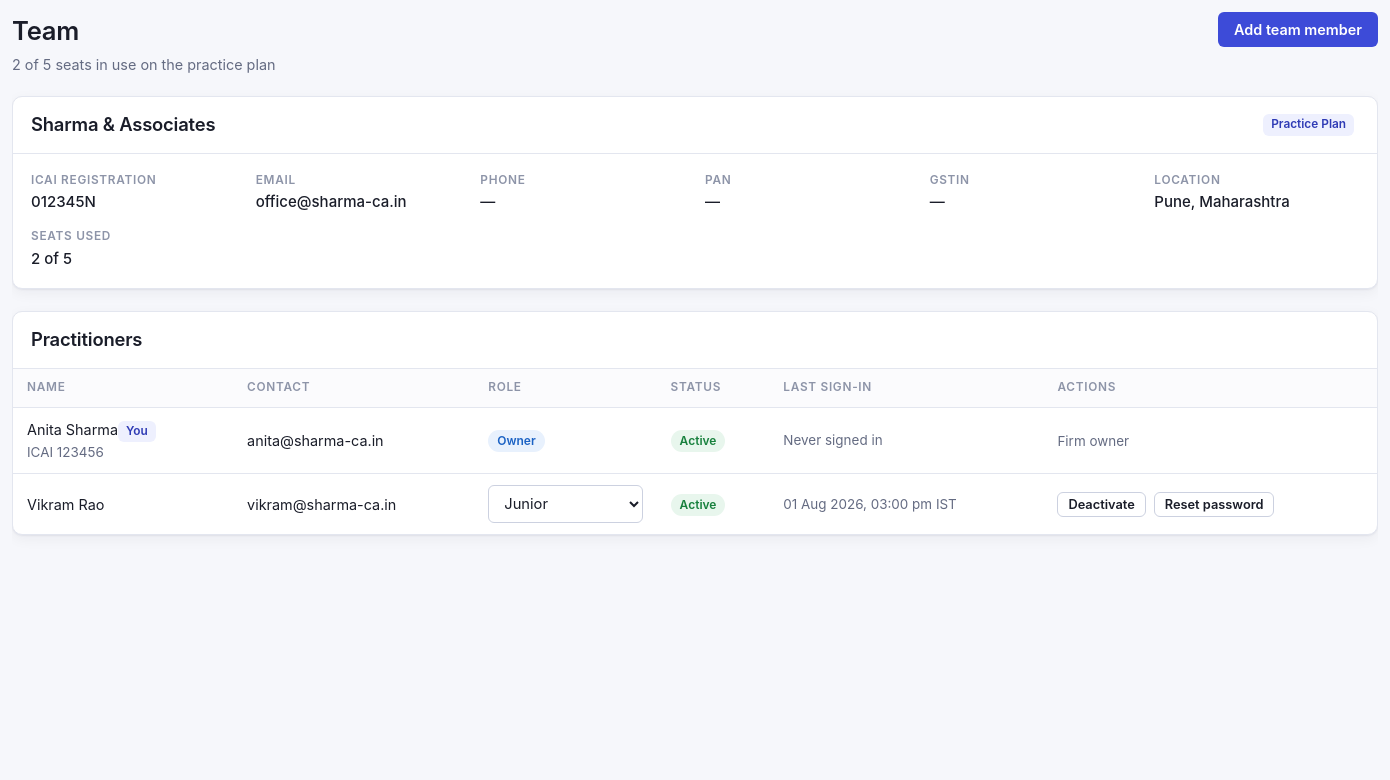
Changing a member › deactivates someone
Step 1. Click the button "Deactivate" → (1102, 504), box top-left (1057, 492), bottom-right (1146, 517)
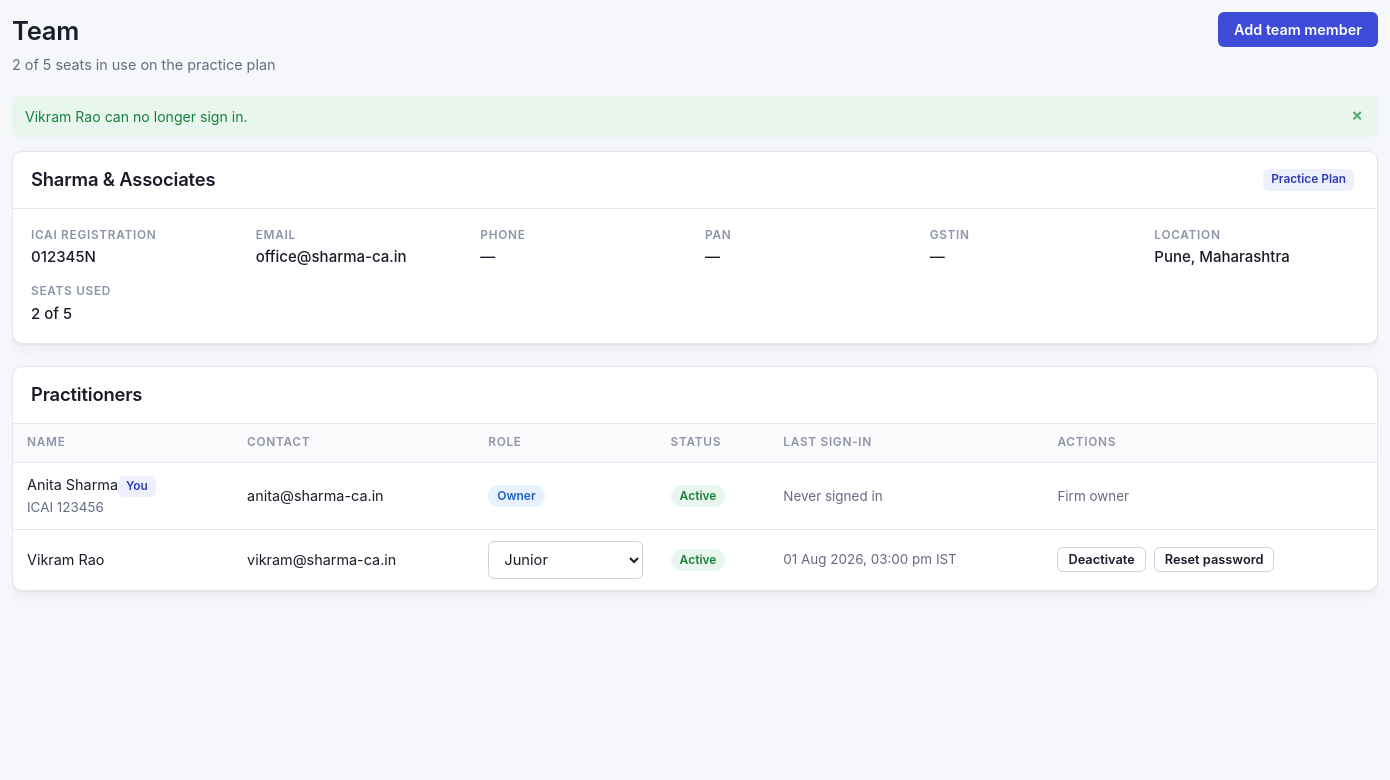
Expected: the text "Vikram Rao can no longer sign in." is shown, top-left (25, 106), bottom-right (248, 127)
